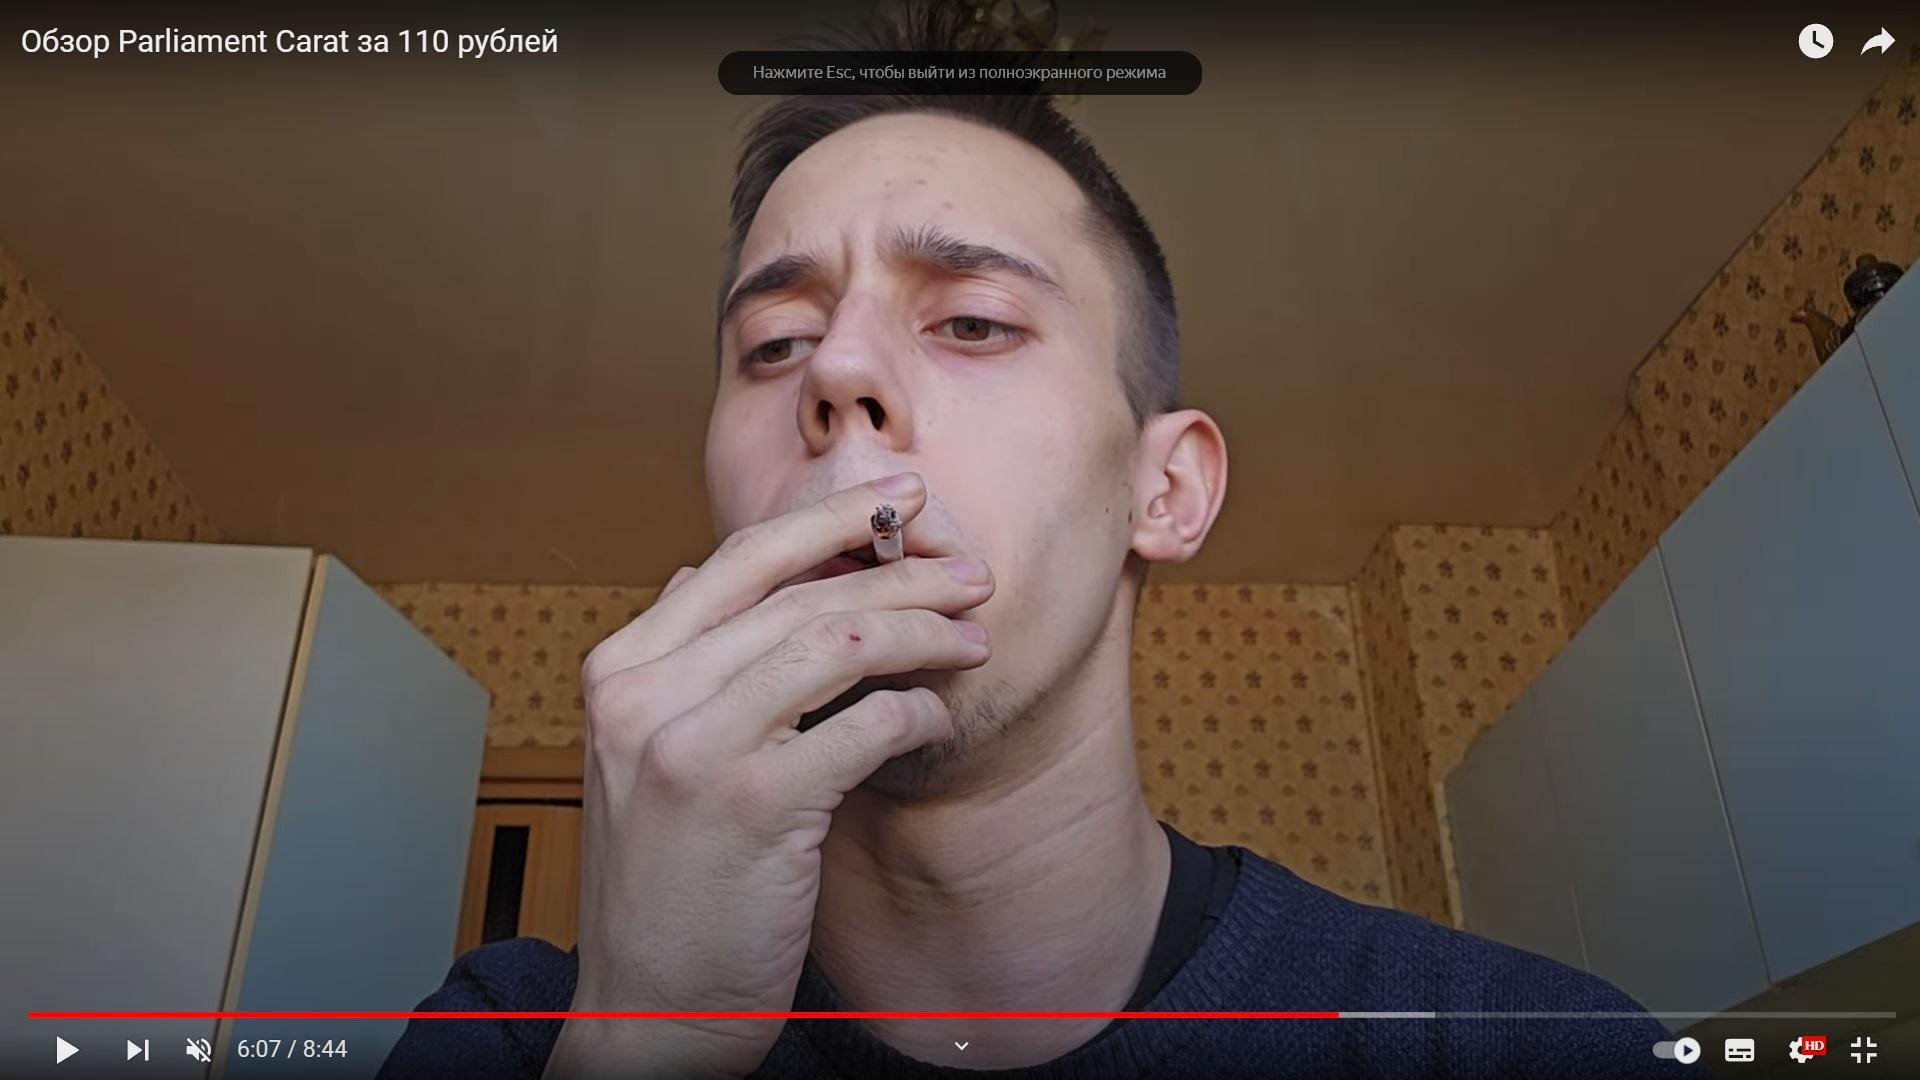cigarette: (869, 504, 905, 564)
